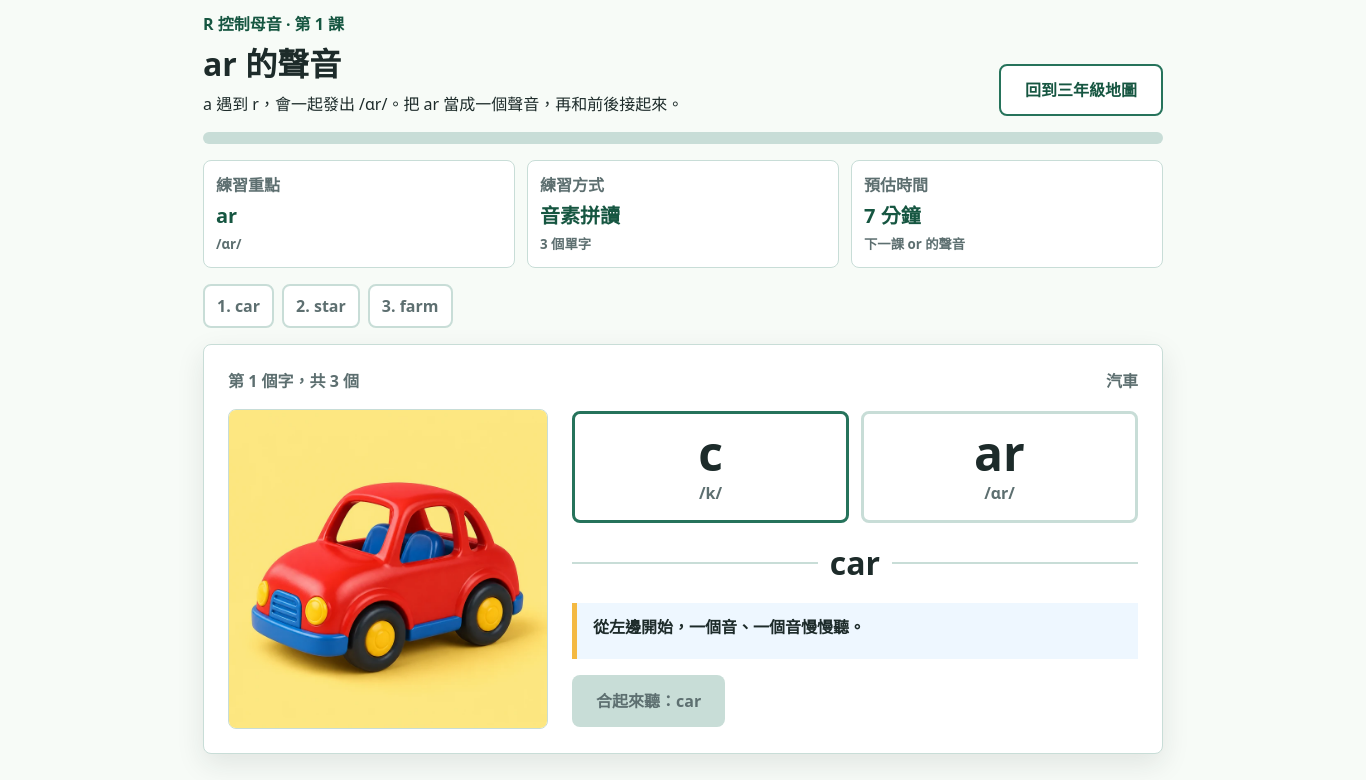
Scenario: GradeThree R-controlled vowel lesson page › 把 car 顯示為 c 和 ar 兩個聲音單位
Expected: the heading "ar 的聲音" is shown, [203, 42, 341, 85]
Expected: the button with aria-label "播放 ar 的聲音" is disabled, [861, 411, 1138, 523]
Click the button named "播放 c 的聲音": (710, 467) [572, 411, 849, 523]
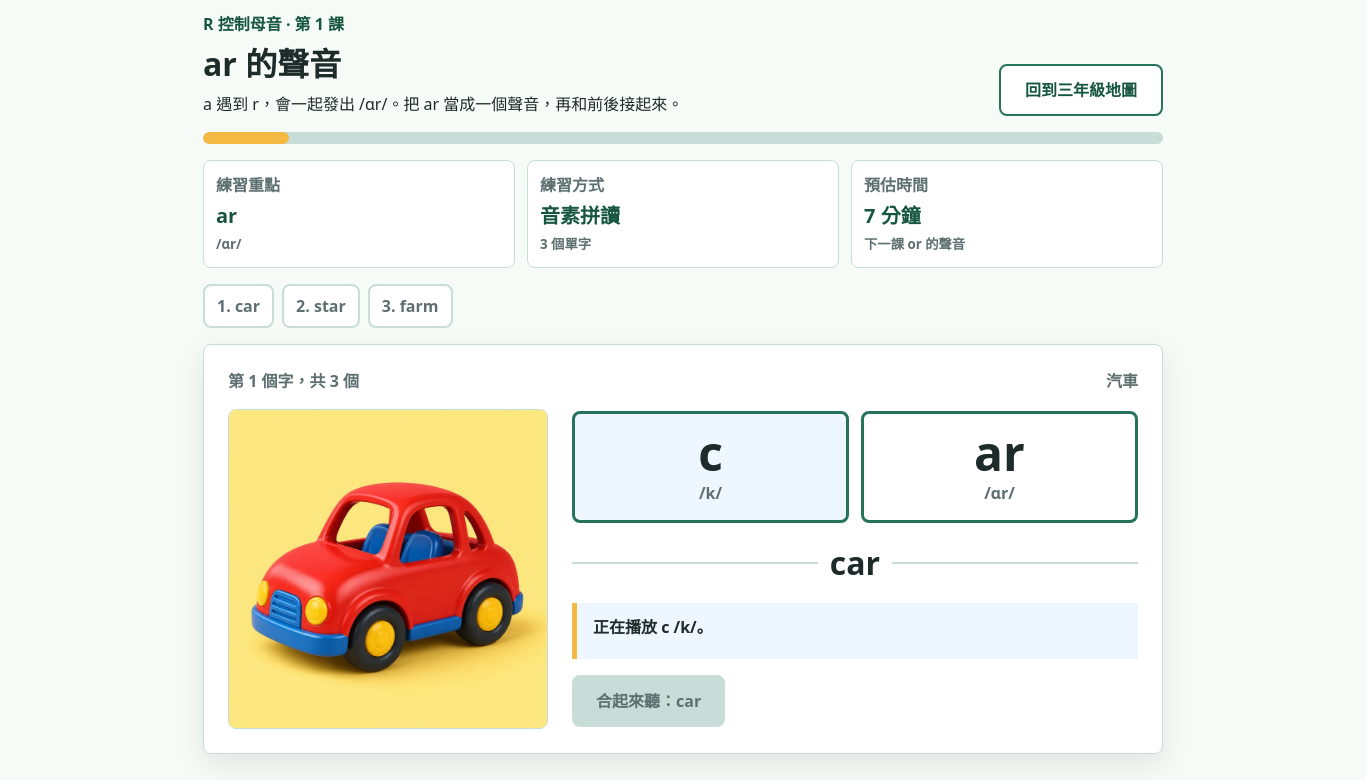
Click the button with aria-label "播放 ar 的聲音": (1000, 467) [861, 411, 1138, 523]
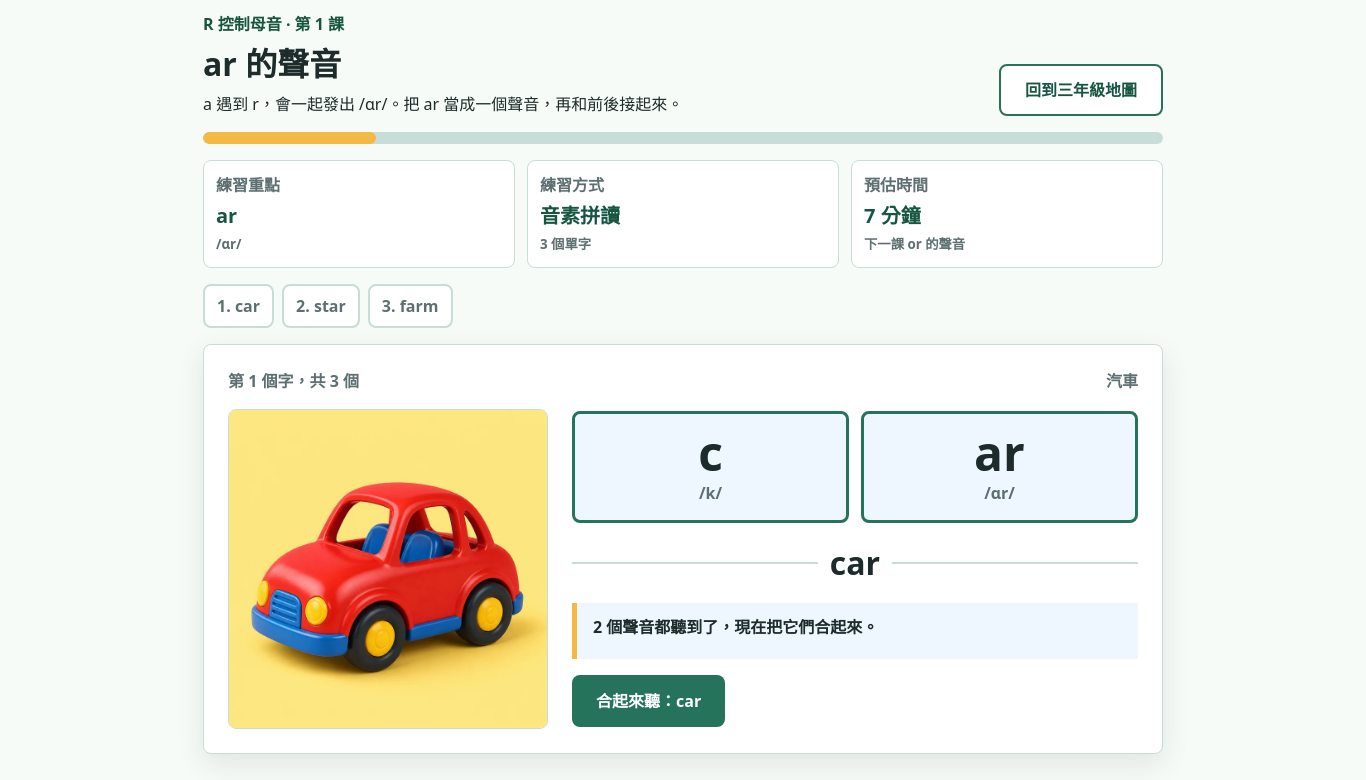
Result: the button "合起來聽：car" is enabled at [572, 675, 725, 727]
